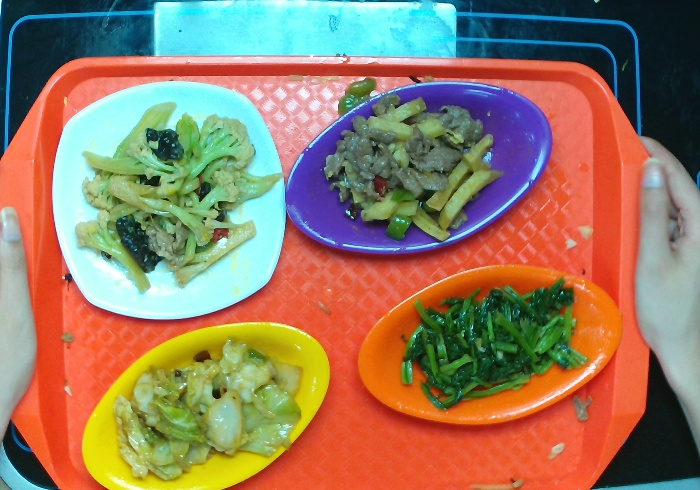RJxy-Fen_Hong_Tuo_Yuan: (282, 74, 554, 261)
RJxy-Huang_Se_Tuo_Yuan: (72, 319, 338, 490)
RJxy-Ju_Huang_Tuo_Yuan: (350, 258, 628, 431)
RJxy-Si_Fang_Die: (50, 72, 292, 327)
